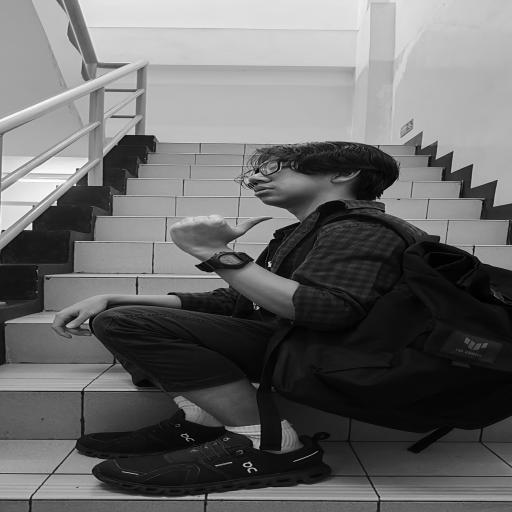back: (161, 207, 284, 268)
